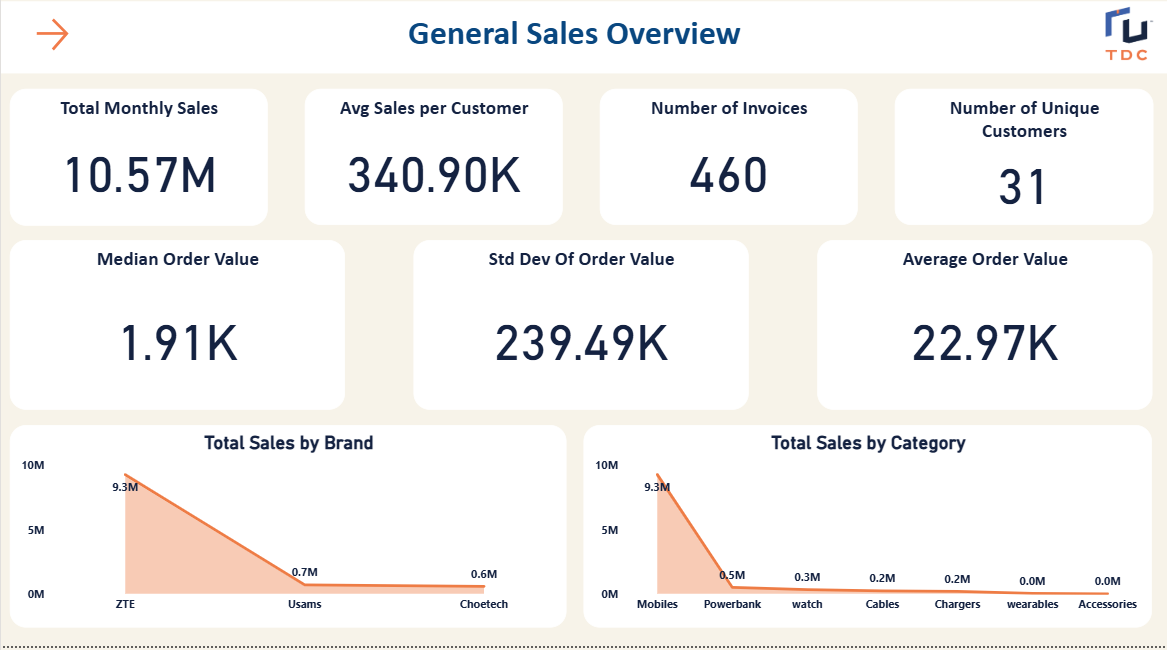

Layout of this report page (visuals, bound fields, positions):
{"tool":"powerbi","page":{"name":"Page 1","canvas":[1280,720],"ordinal":0},"visuals":[{"type":"shape","box":[0,12.3,1280.3,79.6],"z":0},{"type":"image","box":[1196.6,12.3,83.7,71.4],"z":1000},{"type":"textbox","box":[441.9,18.5,396.3,61.3],"z":2000},{"type":"card","title":"Total Monthly Sales","fields":{"Values":["Sum(Monthly SALES.Value)"]},"box":[9.6,108.4,283,150],"z":3000},{"type":"card","title":"Number of Invoices","fields":{"Values":["Monthly SALES.Number of Invoices"]},"box":[657,108.3,283,149.7],"z":4000},{"type":"card","title":"Number of Unique Customers","fields":{"Values":["Monthly SALES.Unique Customers"]},"box":[980.7,108.3,283.7,149.7],"z":5000},{"type":"card","title":"Avg Sales per Customer","fields":{"Values":["Monthly SALES.Avg Sales per Customer"]},"box":[333.3,108.3,283,149.7],"z":6000},{"type":"lineChart","fields":{"Category":["Monthly SALES.Category"],"Y":["Monthly SALES.Total Sales"]},"box":[640,477.5,624.3,222.4],"z":7000},{"type":"lineChart","fields":{"Y":["Monthly SALES.Total Sales"],"Category":["Monthly SALES.Brand"]},"box":[10,477.5,611.5,222.4],"z":8000},{"type":"card","title":"Std Dev Of Order Value","fields":{"Values":["Monthly SALES.Std Dev Order Value"]},"box":[453.3,275.1,367.8,186.7],"z":9000},{"type":"card","title":"Median Order Value","fields":{"Values":["Monthly SALES.Median Order Value"]},"box":[10,274.6,367.8,186.7],"z":10000},{"type":"card","title":"Average Order Value","fields":{"Values":["Monthly SALES.AOV"]},"box":[896.6,275.1,367.8,186.7],"z":11000},{"type":"actionButton","box":[32.8,25.7,134,45.6],"z":12000}]}

Visuals, with their boxes in screenshot pixels (x1, y1, x2, y2), scaled from the page's 1280x720 canvas onto the 1167x650 screenshot:
shape: l=0, t=11, r=1166, b=83
image: l=1091, t=11, r=1166, b=76
textbox: l=403, t=17, r=764, b=72
"Total Monthly Sales" card: l=9, t=98, r=267, b=233
"Number of Invoices" card: l=599, t=98, r=857, b=233
"Number of Unique Customers" card: l=894, t=98, r=1153, b=233
"Avg Sales per Customer" card: l=304, t=98, r=562, b=233
lineChart - Monthly SALES.Category x Monthly SALES.Total Sales: l=584, t=431, r=1153, b=632
lineChart - Monthly SALES.Total Sales x Monthly SALES.Brand: l=9, t=431, r=567, b=632
"Std Dev Of Order Value" card: l=413, t=248, r=749, b=417
"Median Order Value" card: l=9, t=248, r=344, b=416
"Average Order Value" card: l=817, t=248, r=1153, b=417
actionButton: l=30, t=23, r=152, b=64
